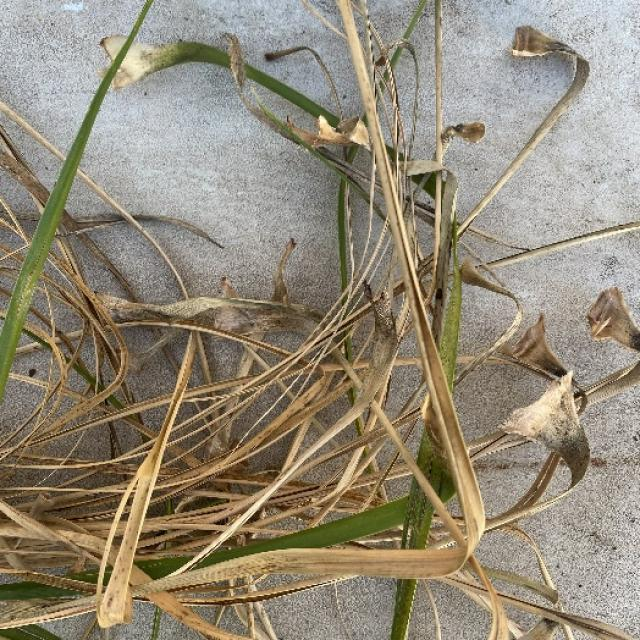organic: (254, 4, 450, 454), (96, 29, 419, 216), (94, 300, 157, 479), (153, 572, 355, 606)
